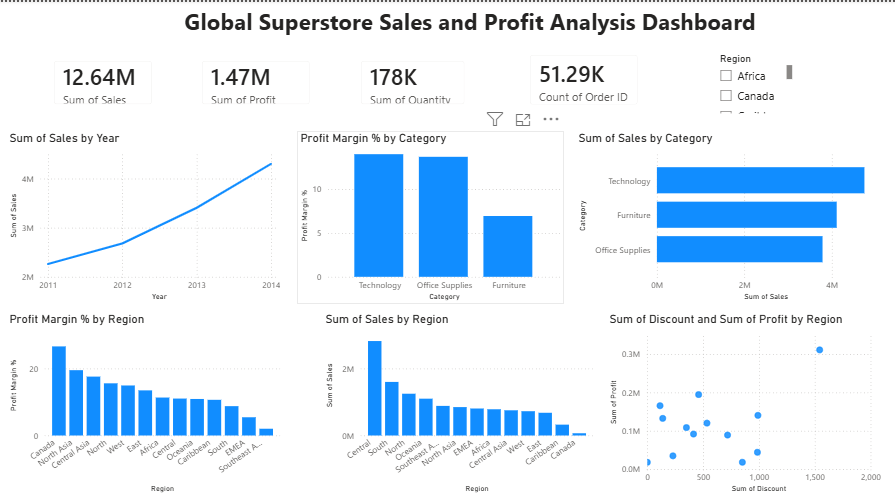

This screenshot's page, from the dashboard's own definition file:
{"tool":"powerbi","page":{"name":"Page 1","canvas":[1280,720],"ordinal":0},"visuals":[{"type":"cardVisual","fields":{"Data":["Sum(Orders.Sales)"]},"box":[60,67.3,174.1,96.6],"z":0},{"type":"cardVisual","fields":{"Data":["CountNonNull(Orders.Order ID)"]},"box":[740.5,58.5,188.8,105.4],"z":1000},{"type":"cardVisual","fields":{"Data":["Sum(Orders.Profit)"]},"box":[270.7,67.3,188.8,96.6],"z":2000},{"type":"cardVisual","fields":{"Data":["Sum(Orders.Quantity)"]},"box":[499,67.3,182.9,96.6],"z":3000},{"type":"lineChart","fields":{"Category":["Orders.Order Date.Variation.Date Hierarchy.Year","Orders.Order Date.Variation.Date Hierarchy.Quarter","Orders.Order Date.Variation.Date Hierarchy.Month","Orders.Order Date.Variation.Date Hierarchy.Day"],"Y":["Sum(Orders.Sales)"]},"box":[8.8,184.4,396.6,247.3],"z":4000},{"type":"clusteredBarChart","fields":{"Category":["Orders.Category"],"Y":["Sum(Orders.Sales)"]},"box":[821,184.4,443.4,247.3],"z":5000},{"type":"clusteredColumnChart","fields":{"Category":["Orders.Region"],"Y":["Sum(Orders.Sales)"]},"box":[459.5,443.4,392.2,263.4],"z":6000},{"type":"clusteredColumnChart","fields":{"Y":["Orders.Profit Margin %"],"Category":["Orders.Region"]},"box":[8.8,443.4,396.6,263.4],"z":7000},{"type":"clusteredColumnChart","fields":{"Y":["Orders.Profit Margin %"],"Category":["Orders.Category"]},"box":[424.4,184.4,382,247.3],"z":8000},{"type":"scatterChart","fields":{"Y":["Sum(Orders.Profit)"],"X":["Sum(Orders.Discount)"],"Category":["Orders.Region"]},"box":[866.3,443.4,398,263.4],"z":9000},{"type":"slicer","fields":{"Values":["Orders.Region"]},"box":[1015.6,67.3,121.5,96.6],"z":9001},{"type":"textbox","box":[259,0,844.4,58.5],"z":9002}]}

Visuals, with their boxes in screenshot pixels (x1, y1, x2, y2), scaled from the page's 1280x720 canvas onto the 895x497 screenshot:
cardVisual - Sum(Orders.Sales): crop(42, 46, 164, 113)
cardVisual - CountNonNull(Orders.Order ID): crop(518, 40, 650, 113)
cardVisual - Sum(Orders.Profit): crop(189, 46, 321, 113)
cardVisual - Sum(Orders.Quantity): crop(349, 46, 477, 113)
lineChart - Orders.Order Date.Variation.Date Hierarchy.Year x Orders.Order Date.Variation.Date Hierarchy.Quarter: crop(6, 127, 283, 298)
clusteredBarChart - Orders.Category x Sum(Orders.Sales): crop(574, 127, 884, 298)
clusteredColumnChart - Orders.Region x Sum(Orders.Sales): crop(321, 306, 596, 488)
clusteredColumnChart - Orders.Profit Margin % x Orders.Region: crop(6, 306, 283, 488)
clusteredColumnChart - Orders.Profit Margin % x Orders.Category: crop(297, 127, 564, 298)
scatterChart - Sum(Orders.Profit) x Sum(Orders.Discount): crop(606, 306, 884, 488)
slicer - Orders.Region: crop(710, 46, 795, 113)
textbox: crop(181, 0, 772, 40)
